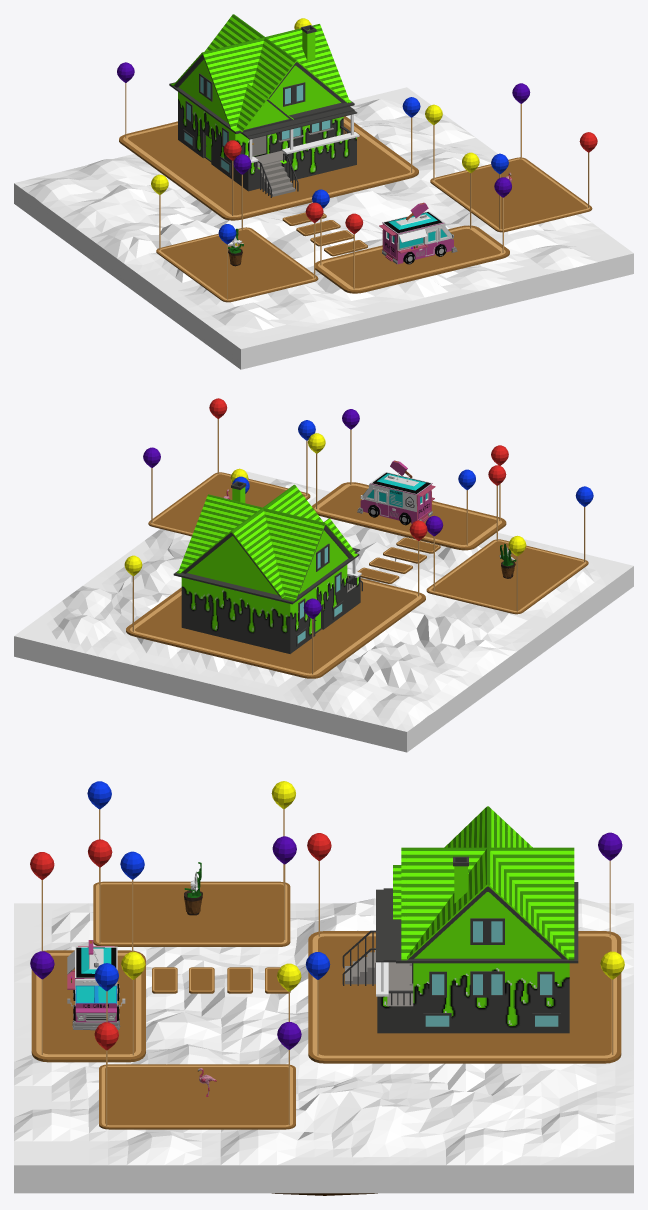
The picture shows the model from 3 angles, top to bottom: view 1: azimuth 30°, elevation 25°; view 2: azimuth 150°, elevation 25°; view 3: azimuth 270°, elevation 25°; orthographic projection. The views are drawn at different scales.
Visible parts, largest first — view 1: Cube.013, Cube.754, VEHICLES_ICE_CREAM_TRUCK; view 2: Cube.013, Cube.754, VEHICLES_ICE_CREAM_TRUCK; view 3: Cube.013, Cube.754, VEHICLES_ICE_CREAM_TRUCK, OBJRANDOM_MONJA BLANCA.
Boxes of the visible parts, x1,y1,x2,y2 form: Cube.013: [14, 18, 633, 369]; Cube.754: [169, 14, 359, 197]; VEHICLES_ICE_CREAM_TRUCK: [379, 202, 457, 264]; Cube.013: [14, 398, 633, 752]; Cube.754: [173, 481, 362, 653]; VEHICLES_ICE_CREAM_TRUCK: [357, 460, 435, 525]; Cube.013: [14, 781, 633, 1193]; Cube.754: [342, 806, 578, 1033]; VEHICLES_ICE_CREAM_TRUCK: [67, 940, 125, 1030]; OBJRANDOM_MONJA BLANCA: [184, 862, 202, 915].
Bounding box in the file's own units: 4000 × 1753 × 4000.
Materials: 45 (2 with a texture image).
